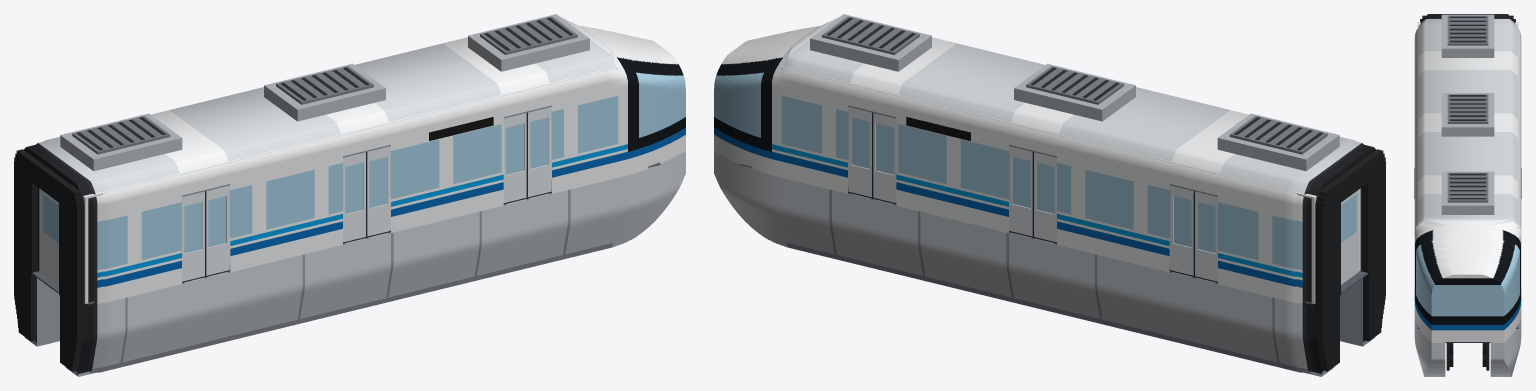
Rendered from tokyo_front.obj.
The picture shows the model from 3 angles, left to right: view 1: azimuth 30°, elevation 25°; view 2: azimuth 150°, elevation 25°; view 3: azimuth 270°, elevation 25°; orthographic projection. The views are drawn at different scales.
Parts seen in each view (by area): view 1: SHELL, SHELL_roof, SHELL_diaphragm, EXTERNAL_DOOR_3_CG_DR1_TOGGLE_TL_-0.54_X, EXTERNAL_DOOR_9_CG_DR2_TOGGLE_TL_-0.54_X, EXTERNAL_DOOR_15_CG_DR3_TOGGLE_TL_-0.54_X, EXTERNAL_DOOR_4_CG_DR1_TOGGLE_TL_0.54_X, EXTERNAL_DOOR_10_CG_DR2_TOGGLE_TL_0.54_X, EXTERNAL_DOOR_16_CG_DR3_TOGGLE_TL_0.54_X, CONNECTING_DOOR_1_CG_CR_TOGGLE_TL_0.98_Z, SHELL_end, SHELL_sign (+1 smaller); view 2: SHELL, SHELL_roof, SHELL_diaphragm, EXTERNAL_DOOR_6_CG_DL1_TOGGLE_TL_-0.54_X, EXTERNAL_DOOR_12_CG_DL2_TOGGLE_TL_-0.54_X, EXTERNAL_DOOR_18_CG_DL3_TOGGLE_TL_-0.54_X, EXTERNAL_DOOR_7_CG_DL1_TOGGLE_TL_0.54_X, EXTERNAL_DOOR_13_CG_DL2_TOGGLE_TL_0.54_X, EXTERNAL_DOOR_19_CG_DL3_TOGGLE_TL_0.54_X, CONNECTING_DOOR_1_CG_CR_TOGGLE_TL_0.98_Z, SHELL_end, SHELL_sign (+1 smaller); view 3: SHELL, SHELL_roof, BOGEY_FRONT.
Boxes of the visible parts, bbox=[...] form: SHELL: bbox=[24, 17, 685, 376]; SHELL_roof: bbox=[60, 14, 589, 170]; SHELL_diaphragm: bbox=[14, 149, 82, 371]; EXTERNAL_DOOR_3_CG_DR1_TOGGLE_TL_-0.54_X: bbox=[182, 191, 206, 281]; EXTERNAL_DOOR_9_CG_DR2_TOGGLE_TL_-0.54_X: bbox=[343, 152, 367, 242]; EXTERNAL_DOOR_15_CG_DR3_TOGGLE_TL_-0.54_X: bbox=[503, 112, 527, 202]; EXTERNAL_DOOR_4_CG_DR1_TOGGLE_TL_0.54_X: bbox=[206, 185, 229, 275]; EXTERNAL_DOOR_10_CG_DR2_TOGGLE_TL_0.54_X: bbox=[367, 146, 390, 236]; EXTERNAL_DOOR_16_CG_DR3_TOGGLE_TL_0.54_X: bbox=[528, 107, 551, 197]; CONNECTING_DOOR_1_CG_CR_TOGGLE_TL_0.98_Z: bbox=[41, 190, 58, 284]; SHELL_end: bbox=[39, 188, 88, 303]; SHELL_sign: bbox=[429, 117, 493, 140]; SHELL: bbox=[714, 17, 1375, 376]; SHELL_roof: bbox=[810, 14, 1339, 170]; SHELL_diaphragm: bbox=[1317, 149, 1385, 371]; EXTERNAL_DOOR_6_CG_DL1_TOGGLE_TL_-0.54_X: bbox=[1193, 191, 1217, 281]; EXTERNAL_DOOR_12_CG_DL2_TOGGLE_TL_-0.54_X: bbox=[1032, 152, 1056, 242]; EXTERNAL_DOOR_18_CG_DL3_TOGGLE_TL_-0.54_X: bbox=[872, 112, 896, 202]; EXTERNAL_DOOR_7_CG_DL1_TOGGLE_TL_0.54_X: bbox=[1170, 185, 1193, 275]; EXTERNAL_DOOR_13_CG_DL2_TOGGLE_TL_0.54_X: bbox=[1009, 146, 1032, 236]; EXTERNAL_DOOR_19_CG_DL3_TOGGLE_TL_0.54_X: bbox=[848, 107, 871, 197]; CONNECTING_DOOR_1_CG_CR_TOGGLE_TL_0.98_Z: bbox=[1341, 190, 1358, 284]; SHELL_end: bbox=[1311, 188, 1360, 303]; SHELL_sign: bbox=[906, 117, 970, 140]; SHELL: bbox=[1414, 14, 1521, 376]; SHELL_roof: bbox=[1441, 14, 1494, 214]; BOGEY_FRONT: bbox=[1446, 343, 1489, 370].
Bounding box in the file's own units: 15.36 × 4.91 × 2.92.
Materials: 1 (1 with a texture image).
